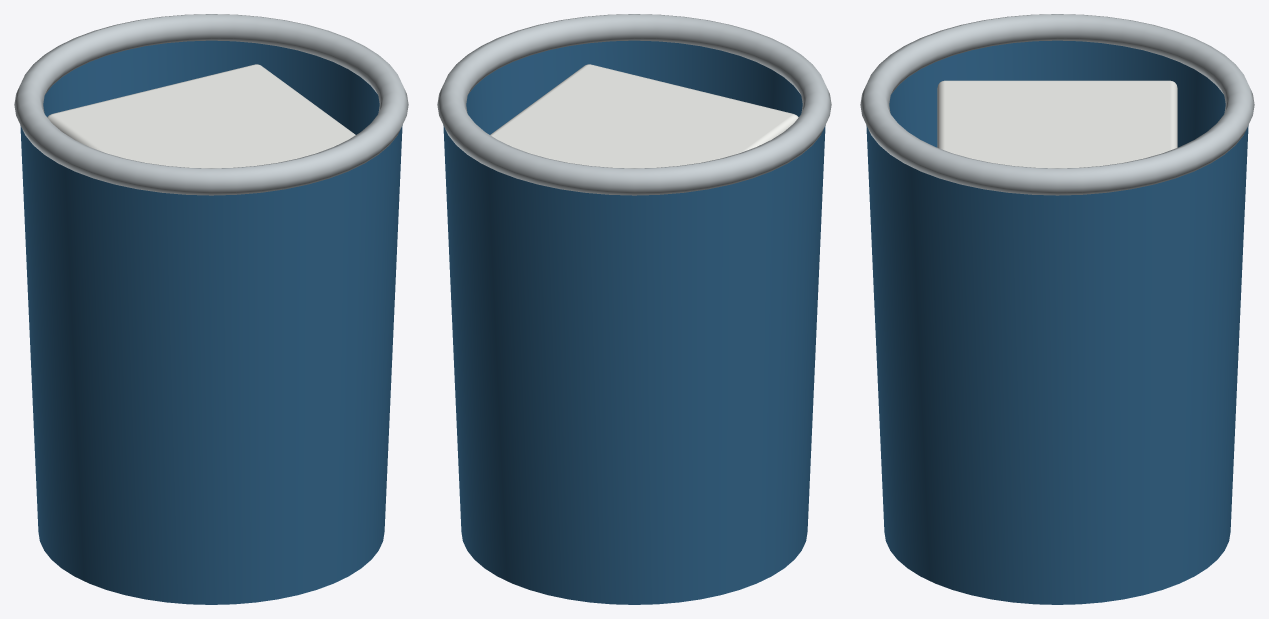
Rendered from fencing-club-and-tournament-piste-towel-bin-5bcb71a9__31248.glb.
3 views of the same model, side by side, from view 1: azimuth 30°, elevation 25°; view 2: azimuth 150°, elevation 25°; view 3: azimuth 270°, elevation 25° (orthographic).
Visible parts, largest first — view 1: towel-bin; view 2: towel-bin; view 3: towel-bin.
Boxes of the visible parts, left/top/right/bottom form: towel-bin: left=14, top=14, right=408, bottom=604; towel-bin: left=437, top=14, right=831, bottom=604; towel-bin: left=860, top=14, right=1254, bottom=604.
Size of the model in its own units: 0.41 by 0.505 by 0.41.
